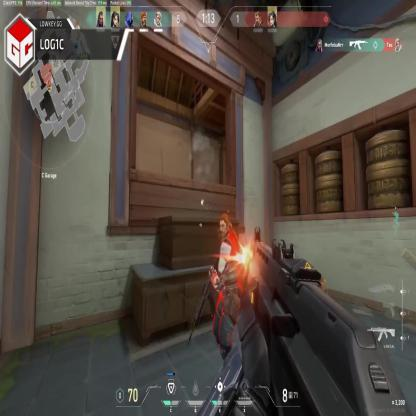enemy: (208, 210, 244, 384)
enemy_head: (218, 212, 232, 235)
